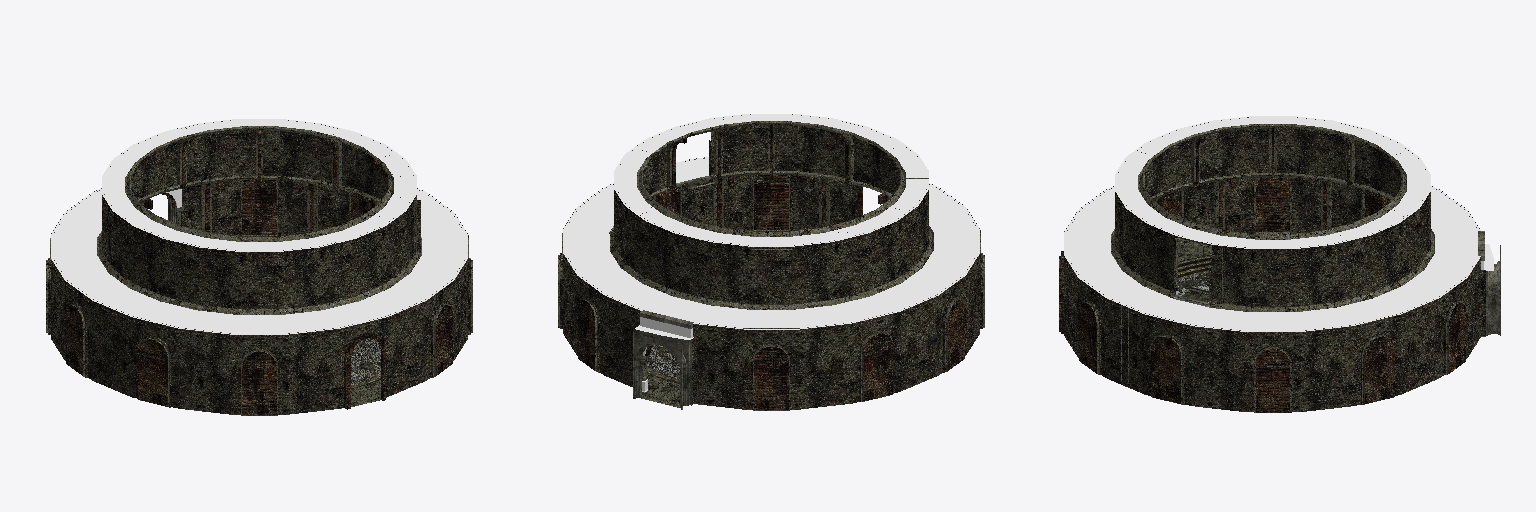
3 views of the same model, side by side, from view 1: azimuth 30°, elevation 25°; view 2: azimuth 150°, elevation 25°; view 3: azimuth 270°, elevation 25° (orthographic).
Visible parts, largest first — view 1: mesh4, mesh2, mesh3, mesh11, mesh12, mesh6, mesh1, mesh7; view 2: mesh4, mesh2, mesh3, mesh11, mesh8, mesh12, mesh7, mesh1, mesh6; view 3: mesh4, mesh2, mesh11, mesh3, mesh8, mesh12, mesh1, mesh10.
Part boxes in pixels (x1,y1,x2,y2): mesh4: (48,131,470,411); mesh2: (51,119,467,334); mesh3: (46,120,472,415); mesh11: (66,180,452,414); mesh12: (104,131,415,311); mesh6: (351,338,380,384); mesh1: (48,332,470,414); mesh7: (351,380,380,406); mesh4: (560,125,982,406); mesh2: (563,114,979,392); mesh3: (558,114,984,410); mesh11: (578,175,964,409); mesh8: (619,176,923,409); mesh12: (616,125,926,355); mesh7: (642,373,679,404); mesh1: (560,327,982,409); mesh6: (647,345,679,379); mesh4: (1061,128,1485,409); mesh2: (1064,116,1483,331); mesh11: (1059,178,1465,412); mesh3: (1065,117,1480,412); mesh8: (1069,231,1500,381); mesh12: (1118,128,1427,309); mesh1: (1061,241,1485,411); mesh10: (1178,255,1211,279).
Size of the model in its own units: 28.15 by 11.26 by 29.21.
19 materials, 14 textured.